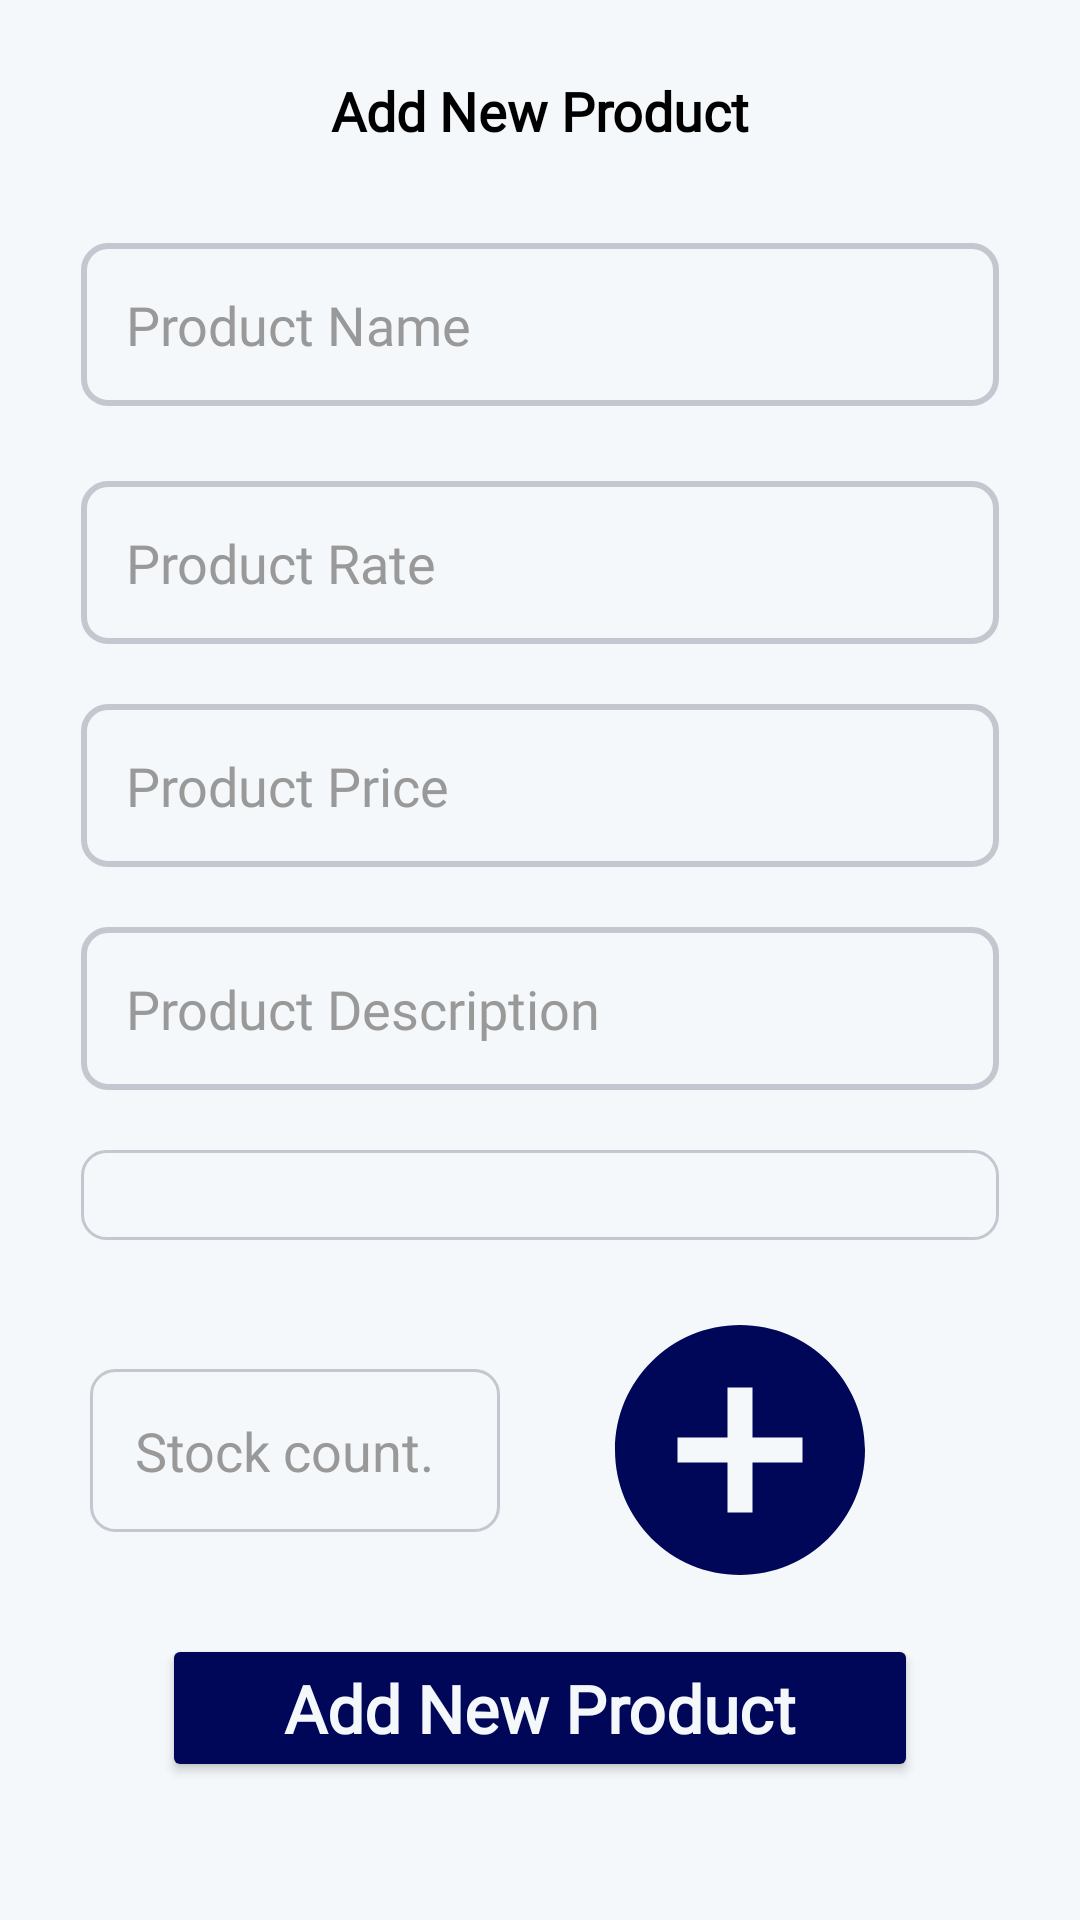

Where to tap for icons on this 1080×1920 app screen, as (x,y):
add circle: (740,1450)
